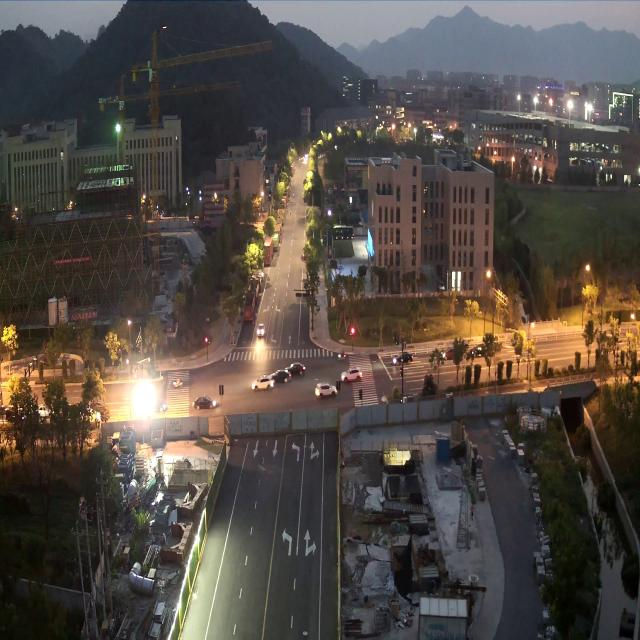drone: (158, 24, 170, 30)
